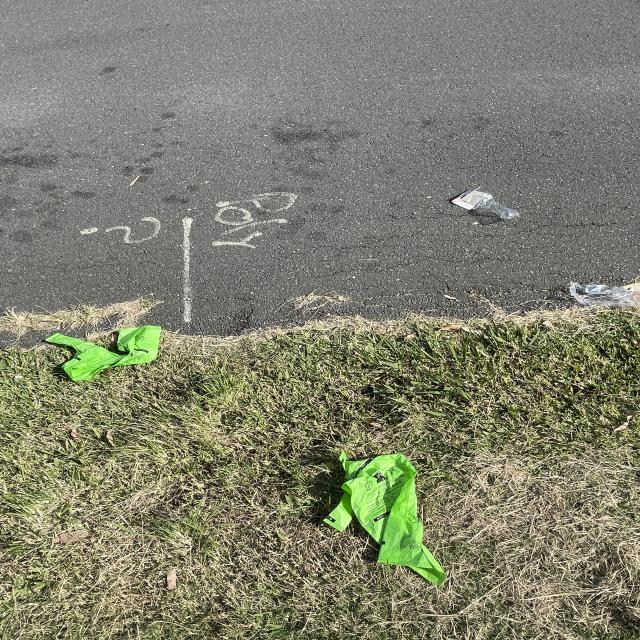bag: (317, 454, 453, 590), (40, 322, 165, 388)
bottle: (442, 181, 529, 225), (565, 268, 640, 318)
